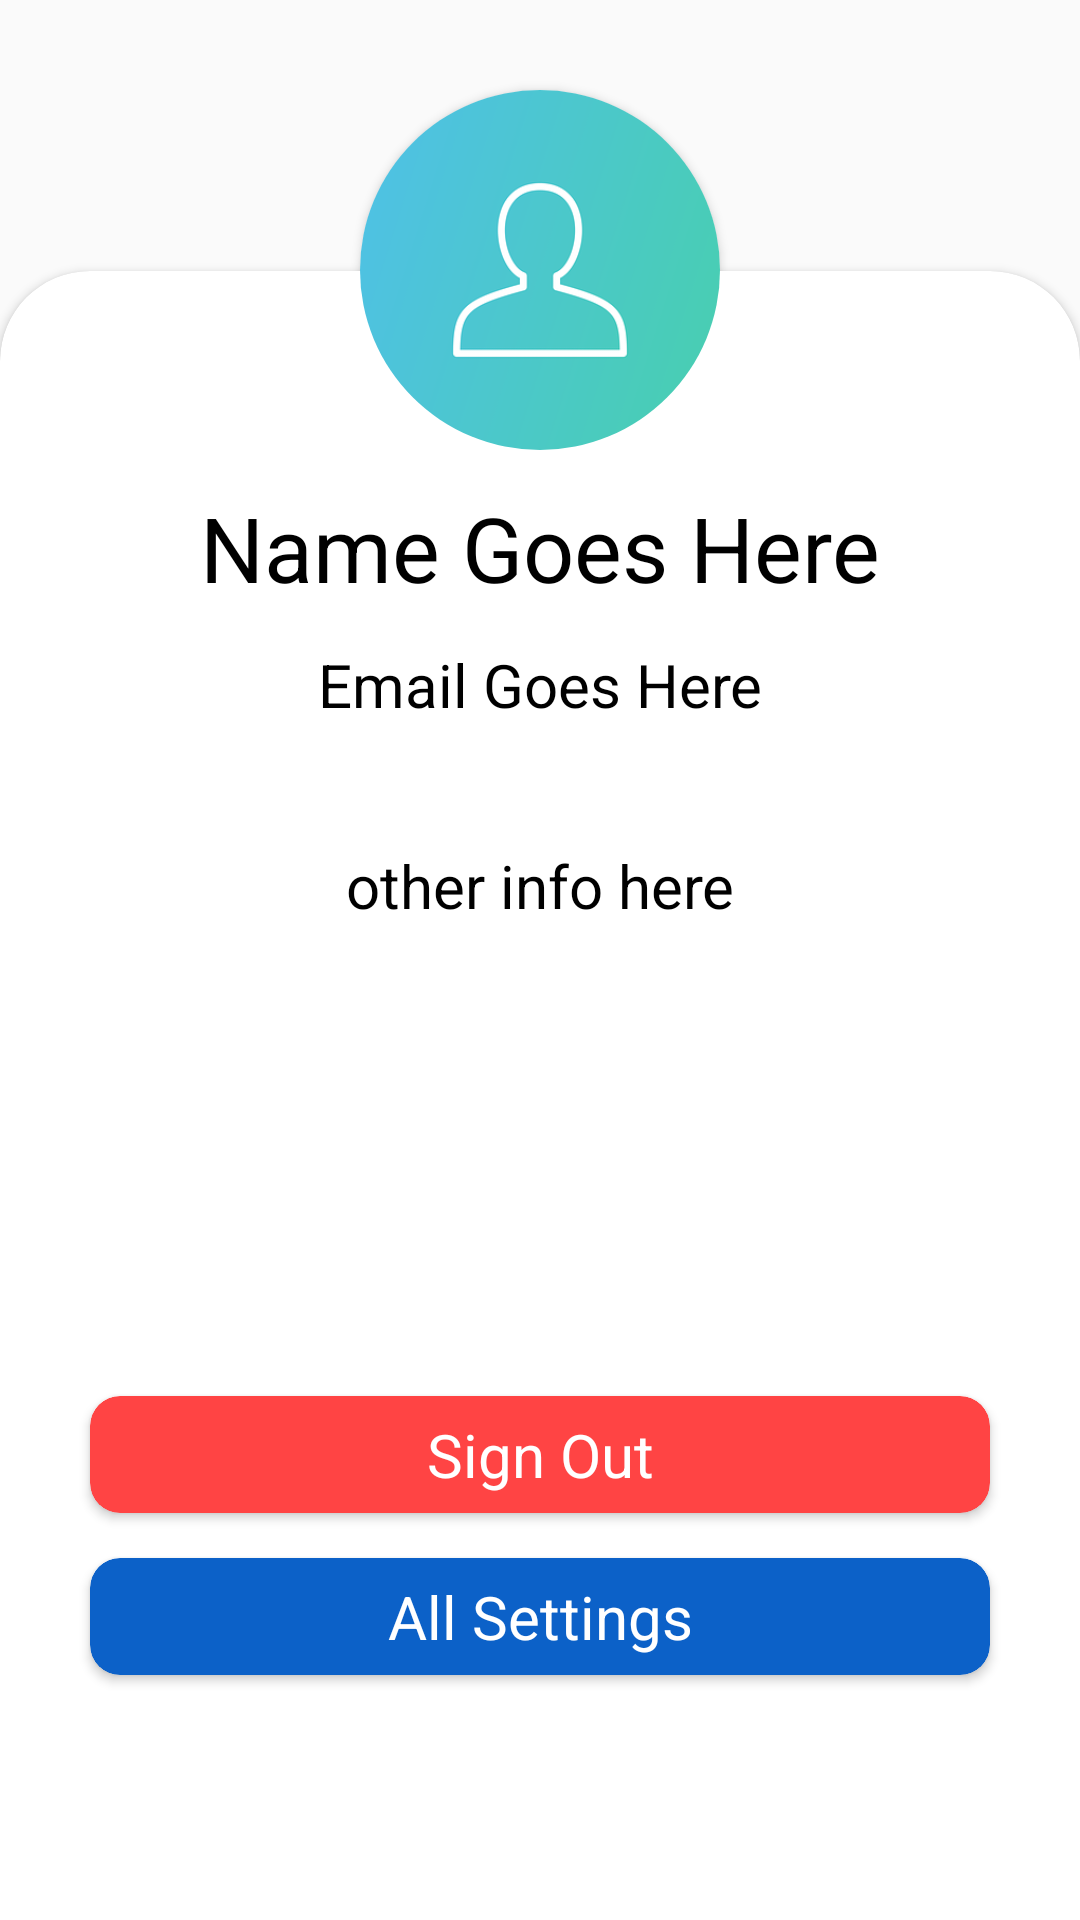

Point at icon controls on the screen. Image size 1080px x 1920px, points as (x,y).
blank profile: (540,270)
